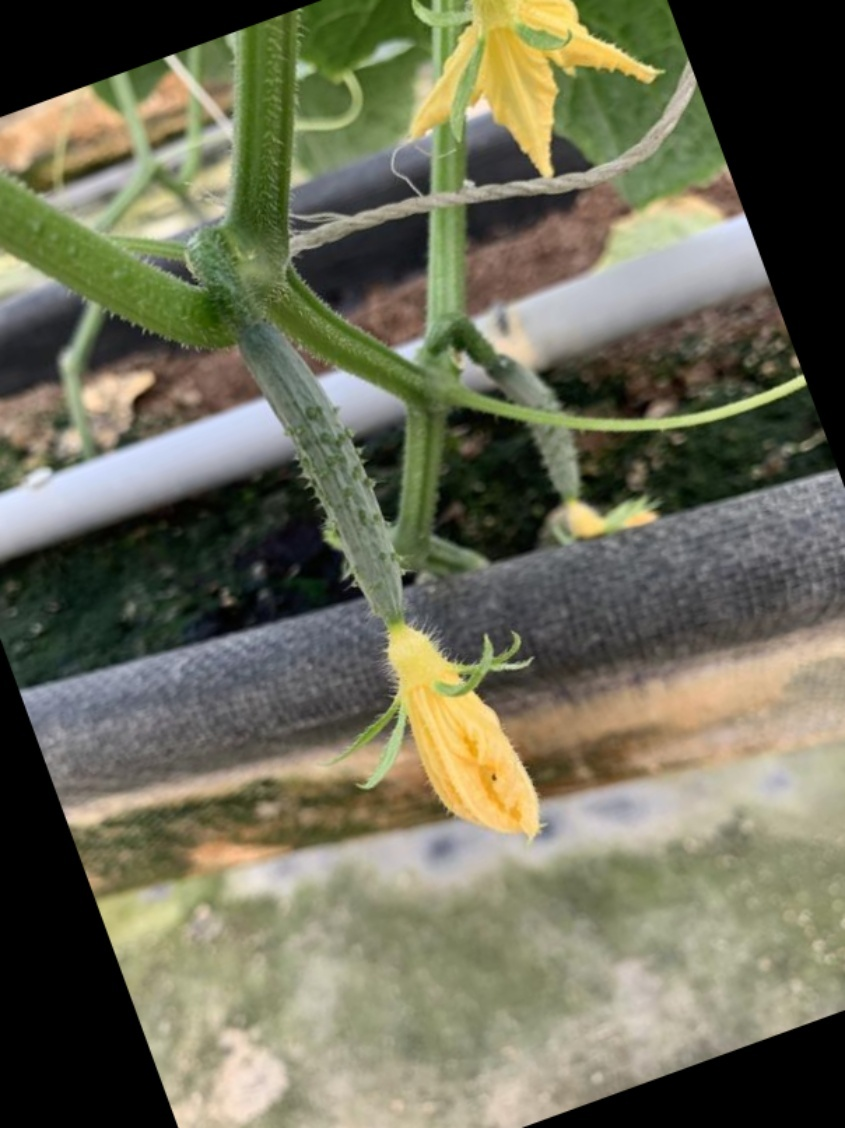bear: (218, 306, 516, 821)
